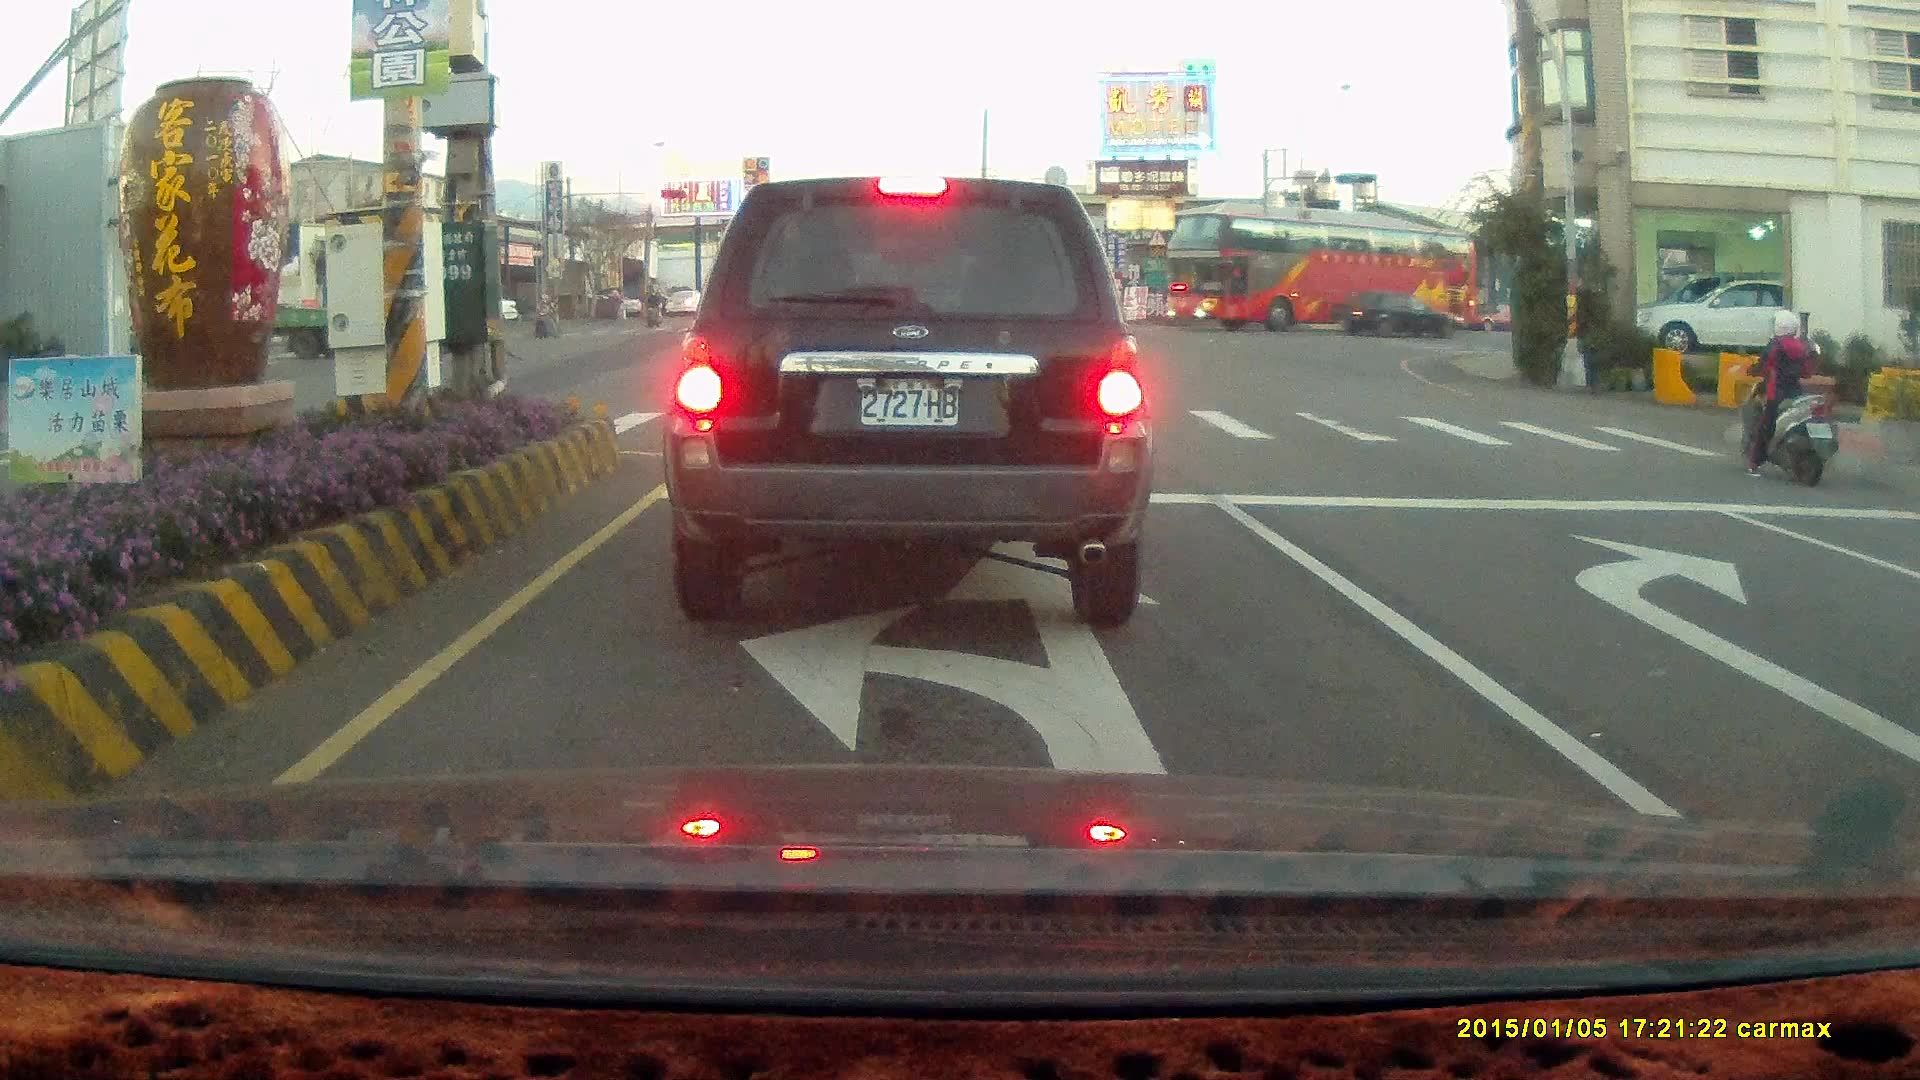rider: (1728, 307, 1838, 485), (532, 290, 560, 337), (641, 289, 662, 326)
vehicle: (660, 173, 1154, 630), (1159, 218, 1487, 335), (1623, 275, 1833, 354), (1642, 275, 1784, 356), (1896, 493, 1920, 836), (1323, 289, 1467, 341), (1883, 528, 1920, 690)
